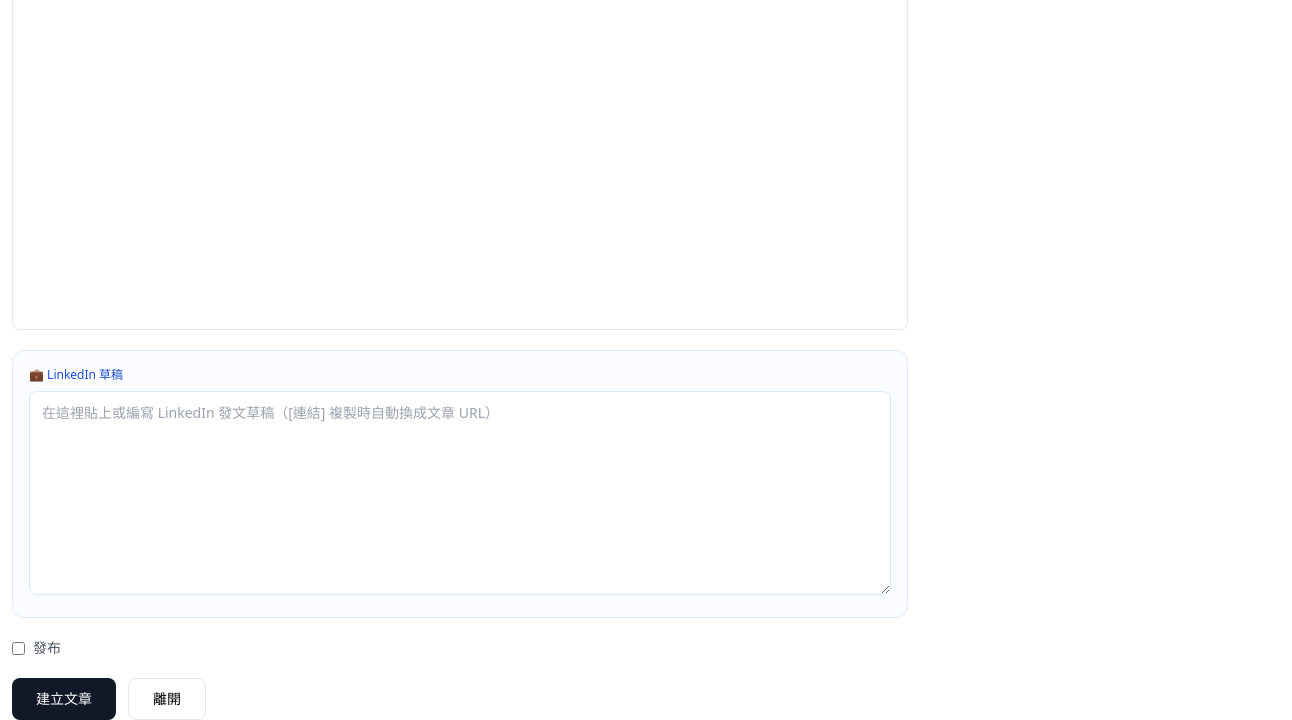
Scenario: AdminPostEdit — auto-save and preview › shows publish checklist when publish is checked
(page scrolled)
Click the checkbox labelled "發布": [18, 648] box top-left (12, 642), bottom-right (25, 654)
(page scrolled)
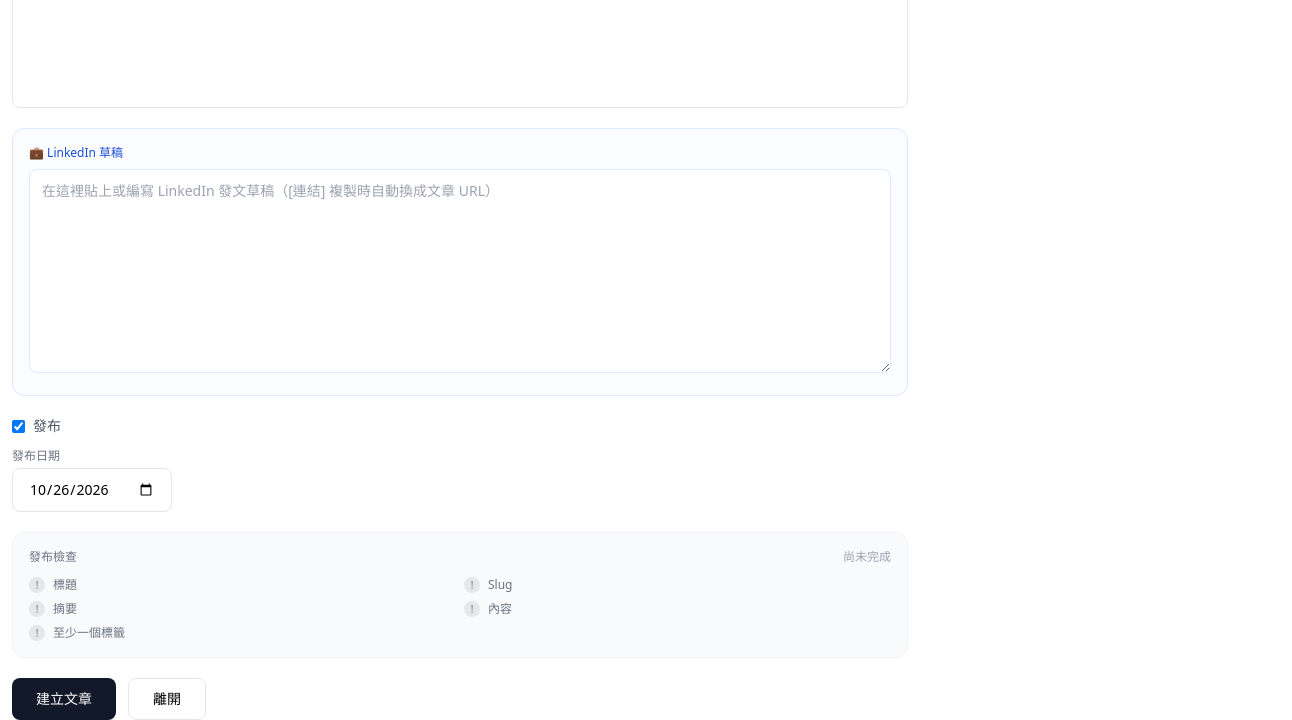
Now the text "發布檢查" is shown, box top-left (29, 548), bottom-right (77, 565)
Now the text "標題" is shown, box top-left (53, 577), bottom-right (77, 593)
Now the text "Slug" is shown, box top-left (488, 577), bottom-right (512, 593)
